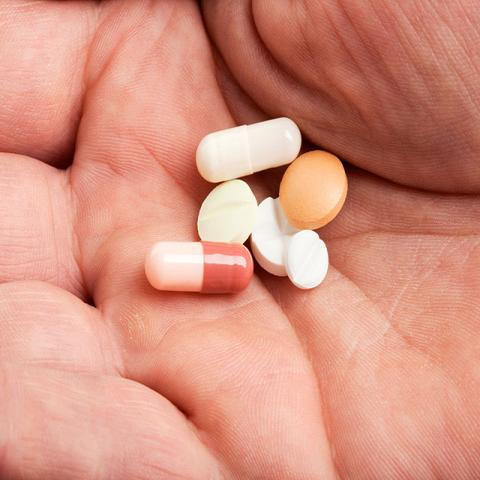Pill: (195, 100, 302, 190), (282, 231, 338, 304)
